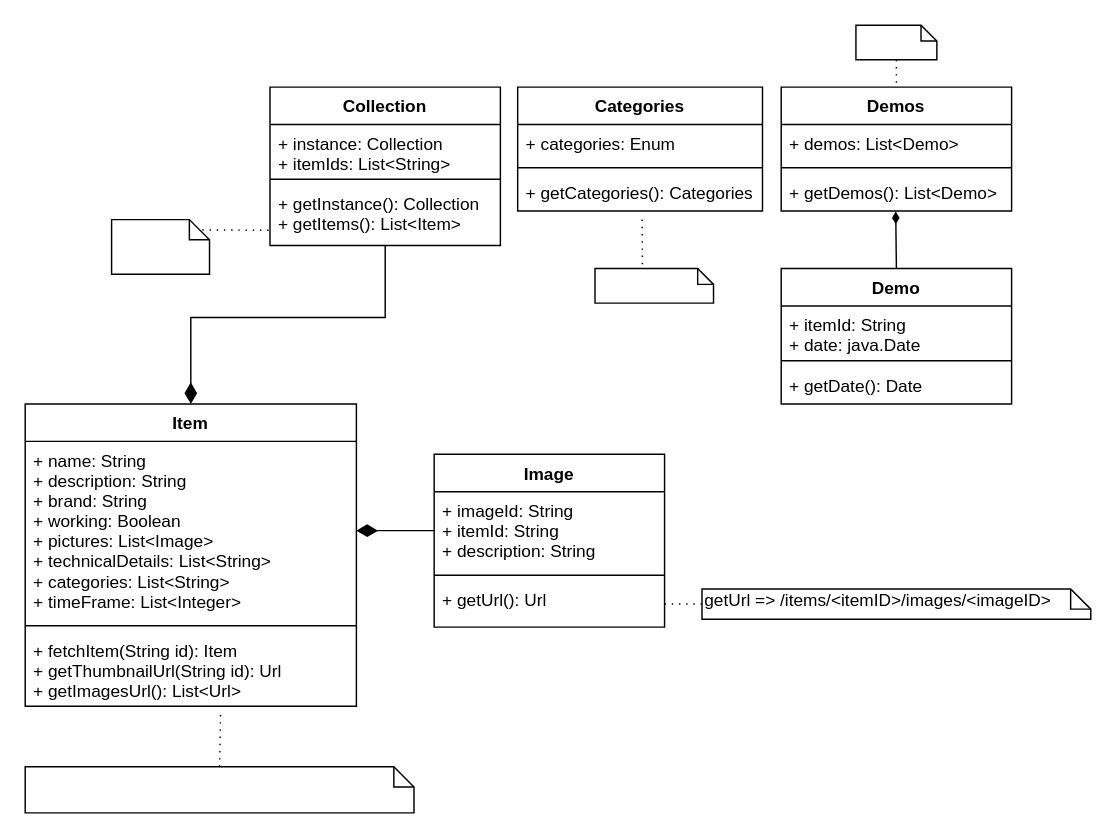
The diagram is 1116 pixels wide and 838 high, and some of its shapes have lost their labels. Here are the shapes that lost their labels. From the top down, the centre of each, then its label:
At pixel 895 42: "/demos".
At pixel 160 246: "/ids /catalog".
At pixel 654 285: "/categories".
At pixel 219 789: "fetchItem => /items/<itemID> getThumbnailUrl => /items/<itemID>/thumbnail".
